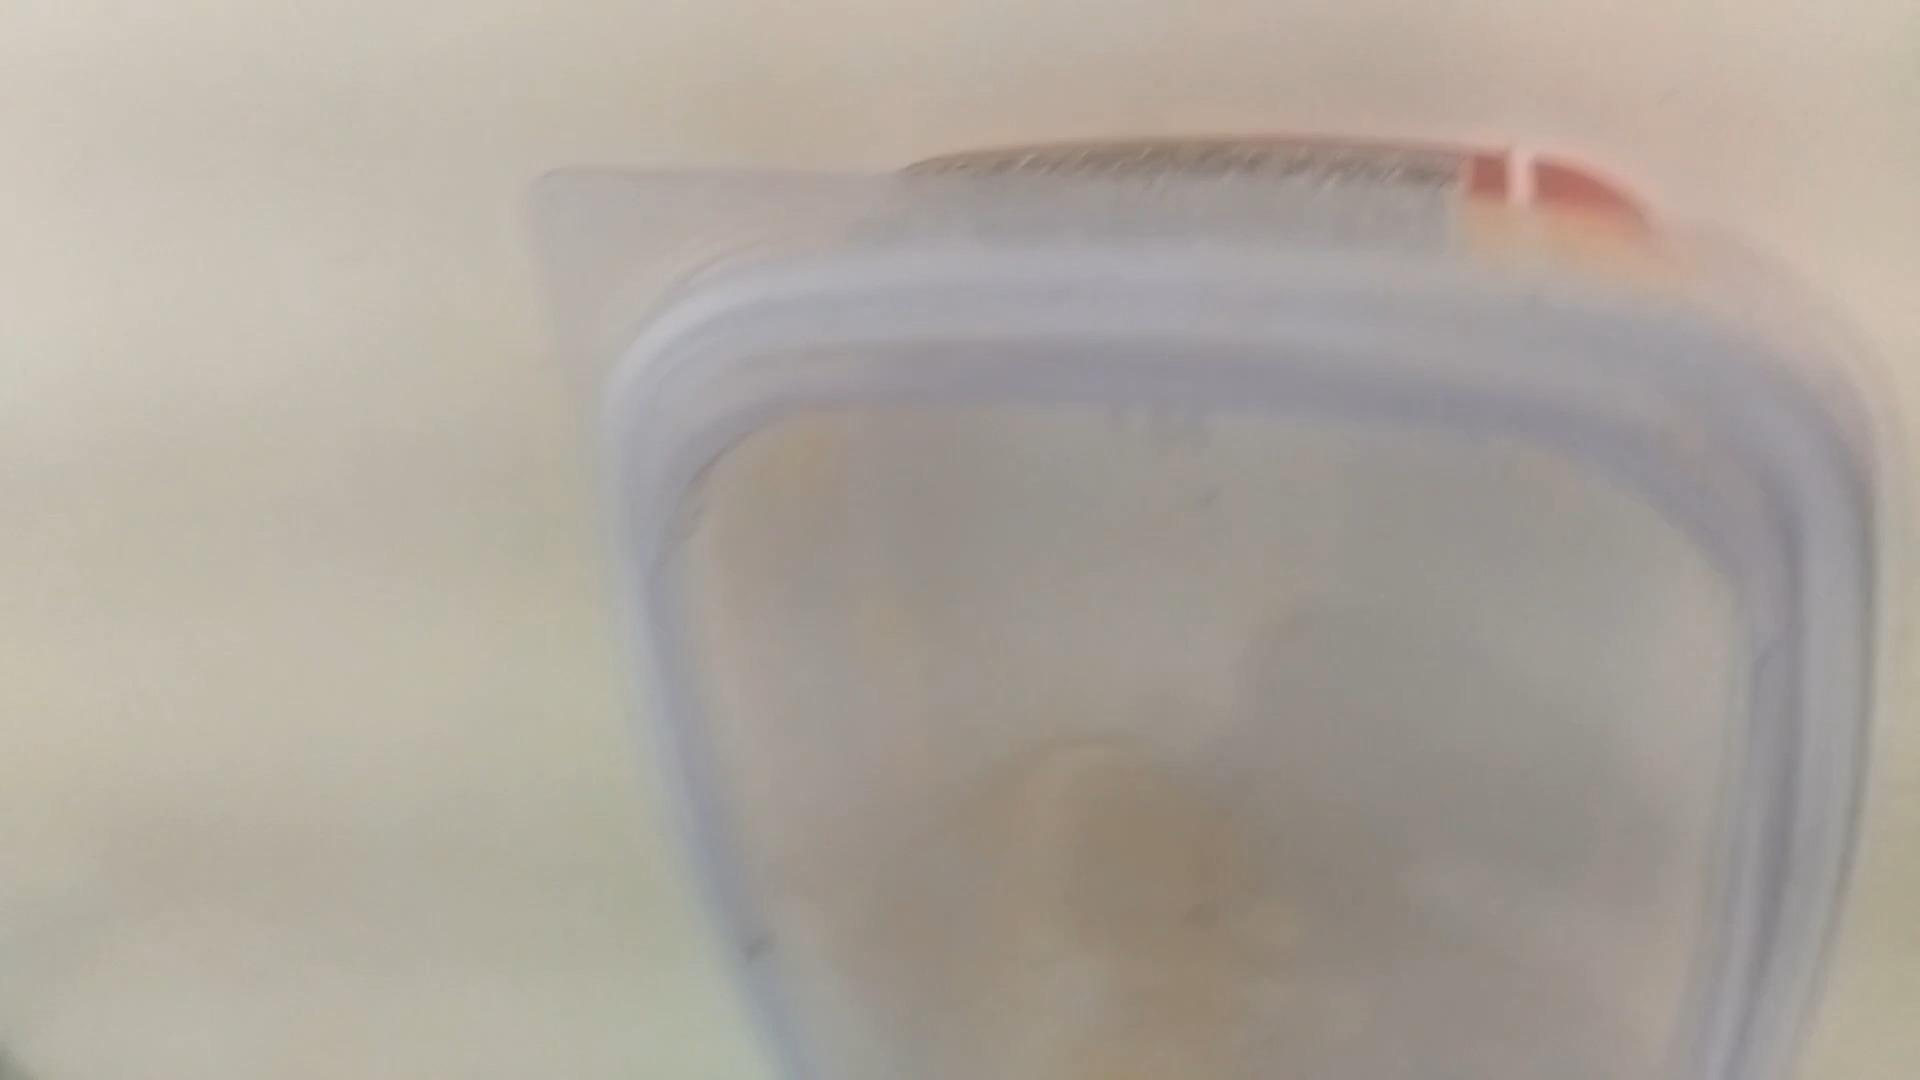butter: (516, 127, 1912, 1080)
